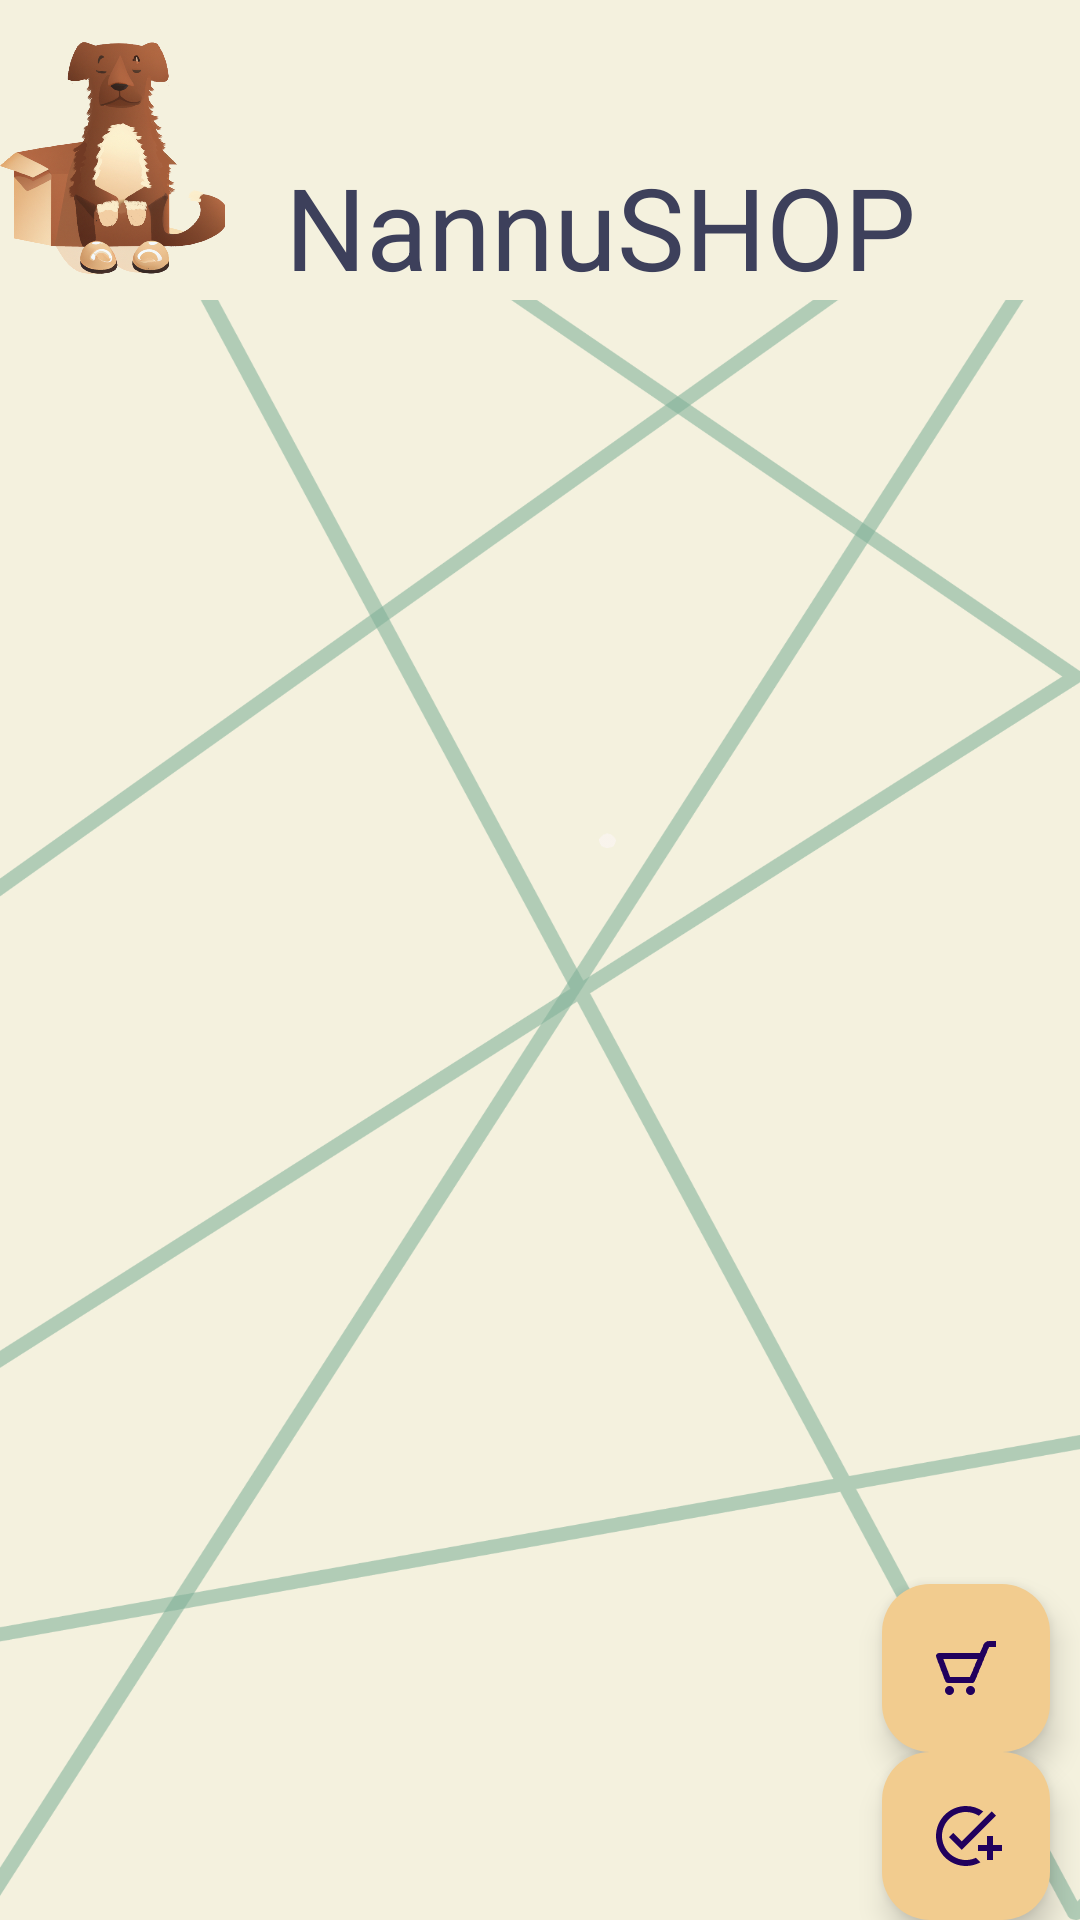

Point at icon controls on the screen. Image size 1080 x 1920, points as point (x, y).
cart: point (966, 1668)
